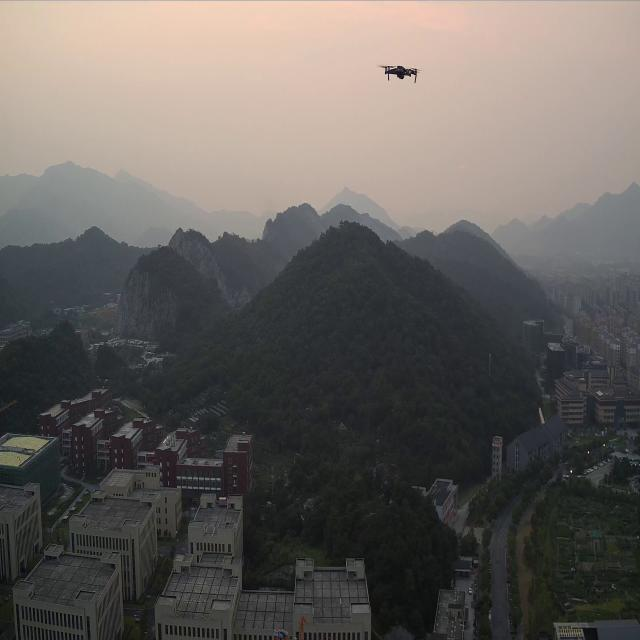UAV: (376, 62, 424, 86)
